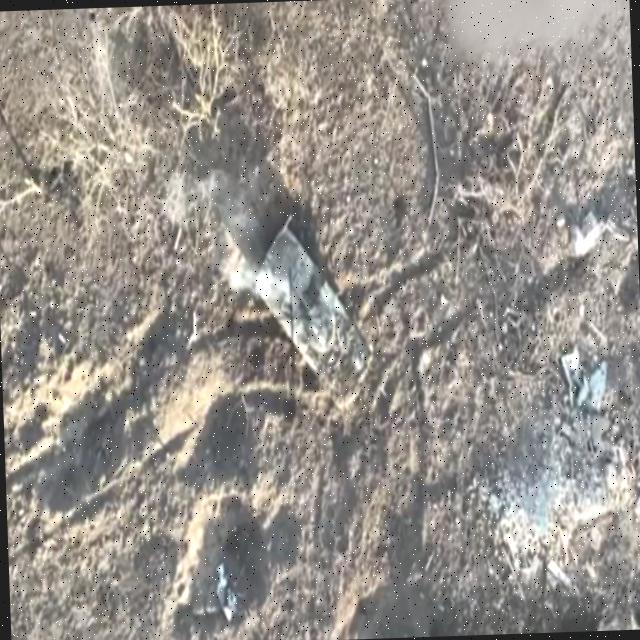AIFV: (253, 209, 376, 411)
